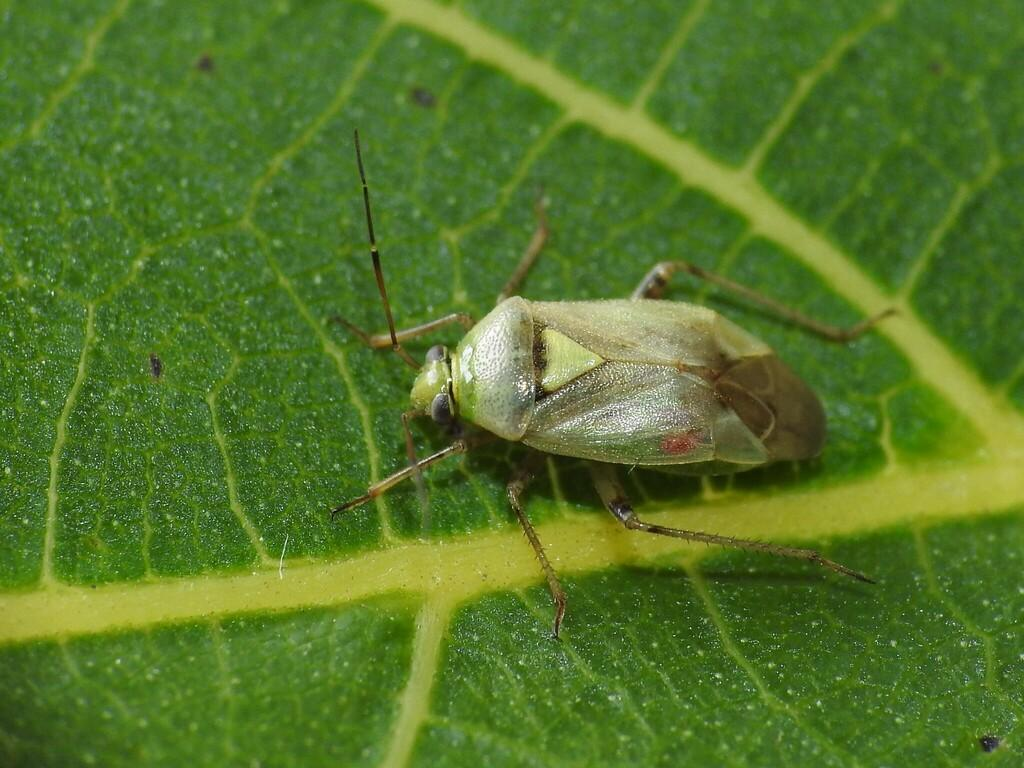plant_bugs: (269, 79, 954, 684)
